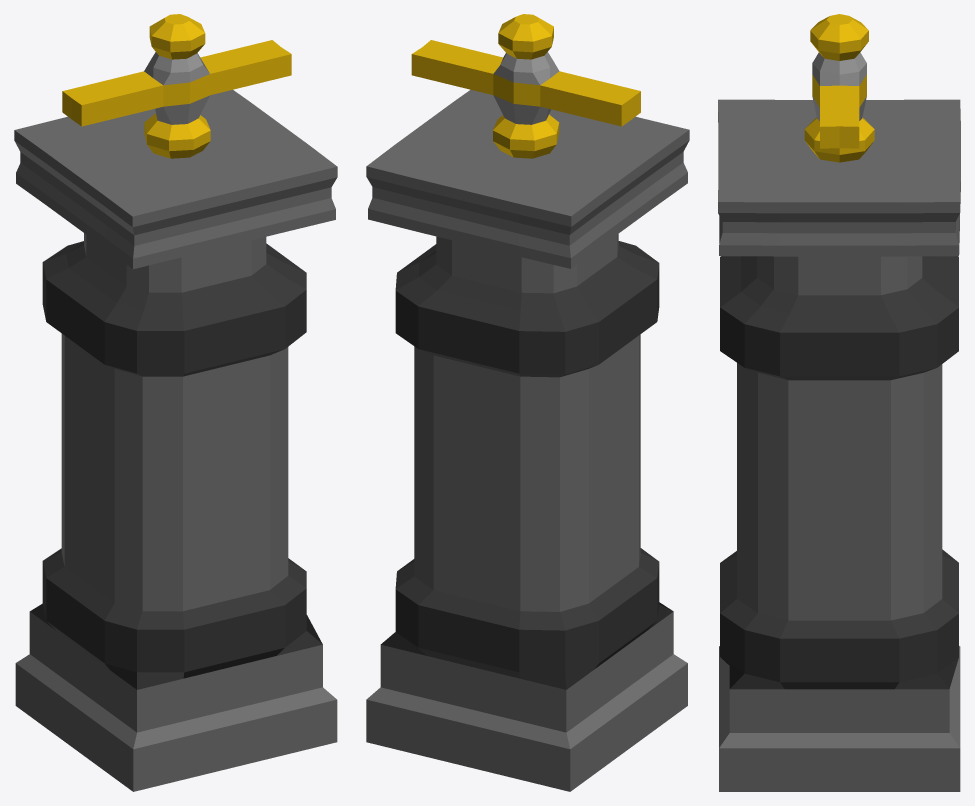
Rendered from DivisjonPillar.FBX.
3 views of the same model, side by side, from view 1: azimuth 30°, elevation 25°; view 2: azimuth 150°, elevation 25°; view 3: azimuth 270°, elevation 25° (orthographic). The views are drawn at different scales.
Visible parts, largest first — view 1: Box001; view 2: Box001; view 3: Box001.
Boxes of the visible parts, x1=… form: Box001: x1=14, y1=14, x2=337, y2=791; Box001: x1=366, y1=14, x2=689, y2=791; Box001: x1=718, y1=14, x2=960, y2=791.
Size of the model in its own units: 20.63 by 66.06 by 20.15.
